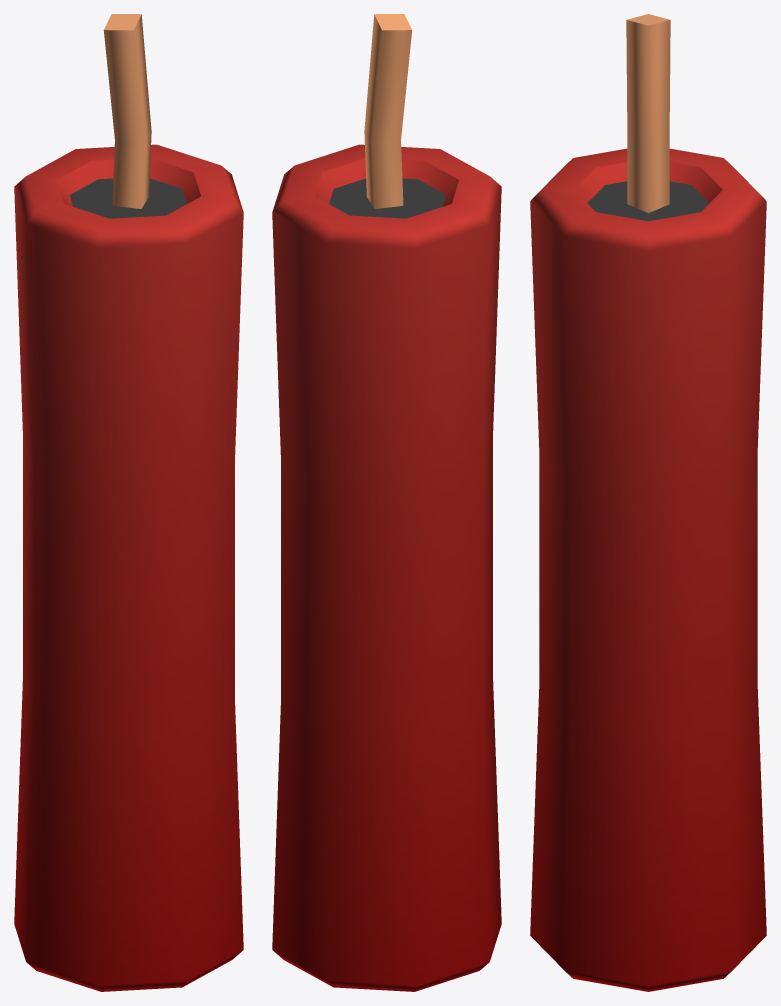
Rendered from dynamite_001.fbx.
The picture shows the model from 3 angles, left to right: view 1: azimuth 30°, elevation 25°; view 2: azimuth 150°, elevation 25°; view 3: azimuth 270°, elevation 25°; orthographic projection.
Visible parts, largest first — view 1: dynamite_001; view 2: dynamite_001; view 3: dynamite_001.
Boxes of the visible parts, box(x1,y1,x2,y2) form: dynamite_001: box(14, 14, 243, 991); dynamite_001: box(272, 14, 501, 991); dynamite_001: box(530, 14, 766, 991).
Size of the model in its own units: 24.08 by 24.08 by 104.
